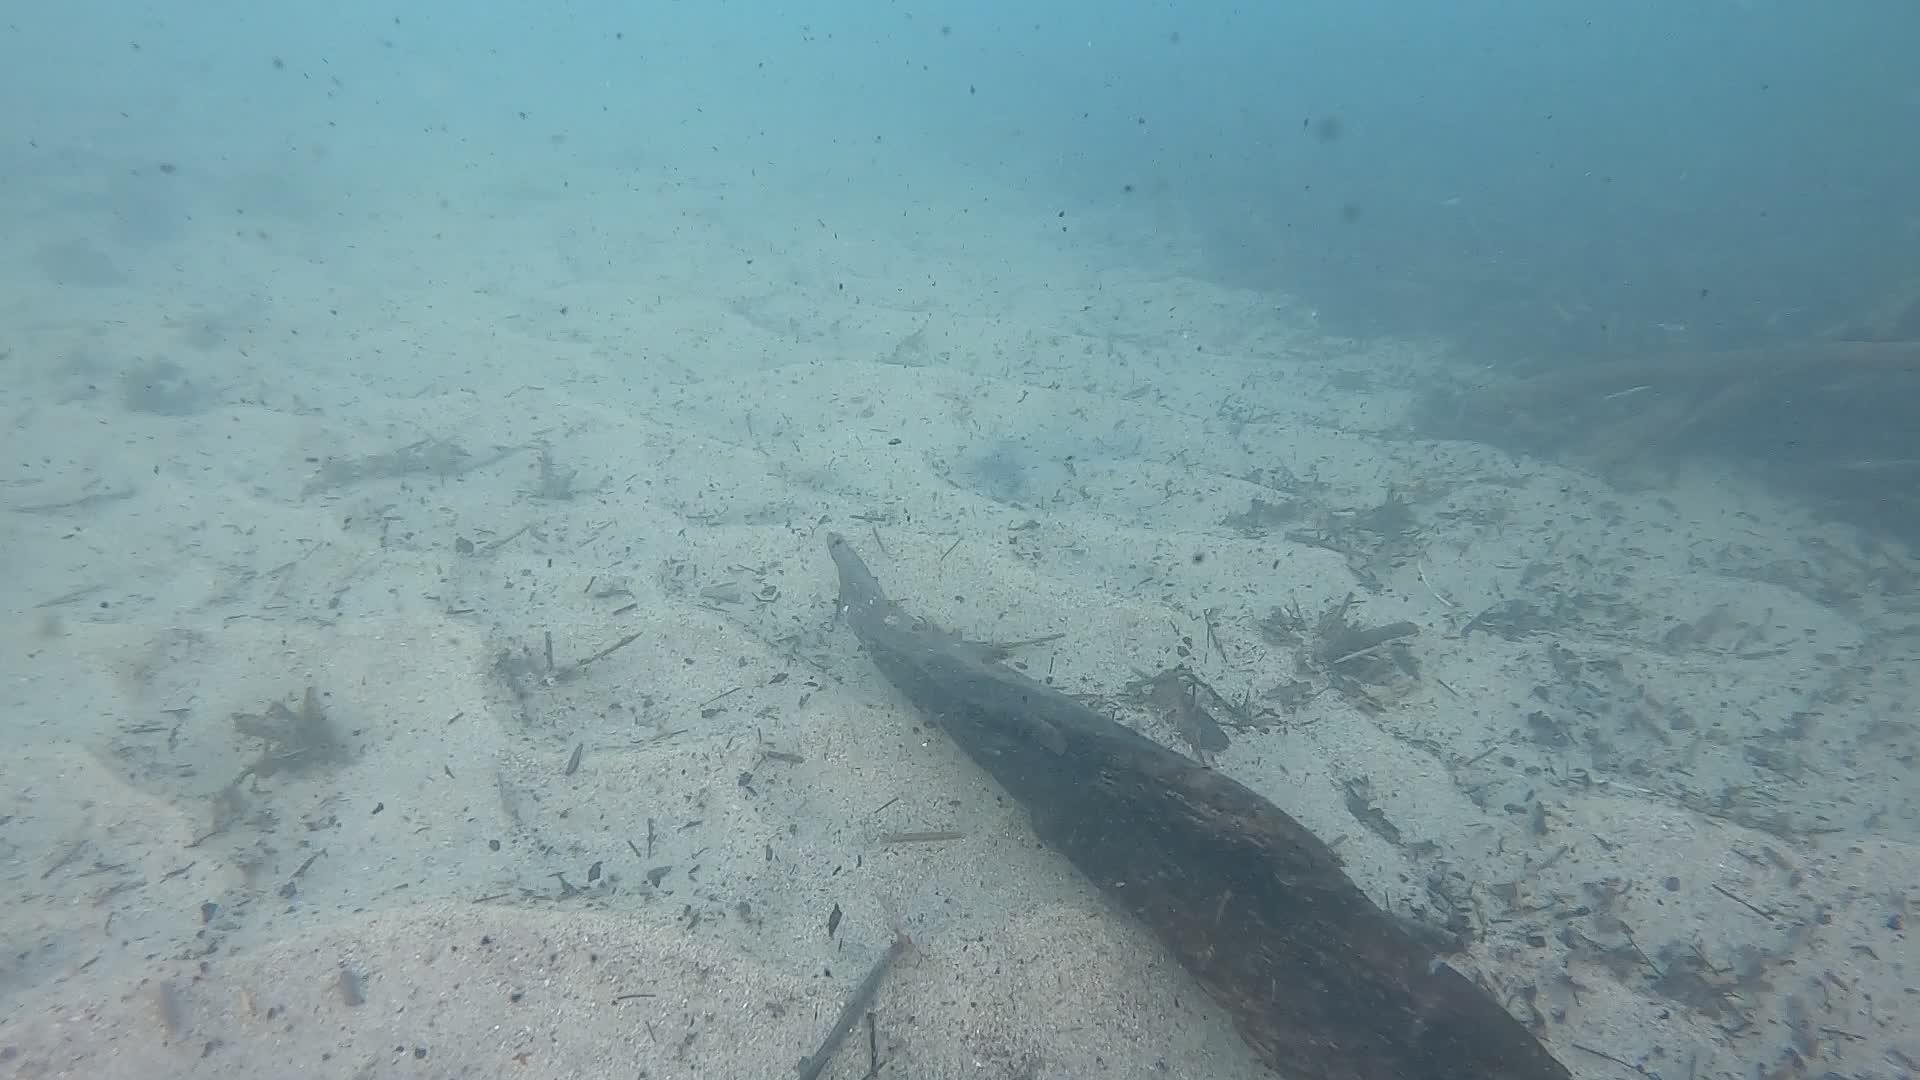wood: (827, 530, 1581, 1080)
